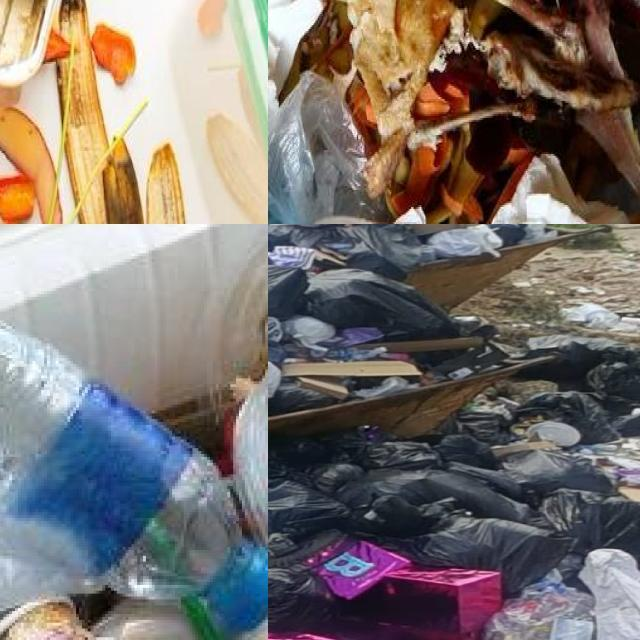Disposable: (0, 224, 268, 413)
Garbage: (268, 224, 640, 640), (0, 224, 268, 640), (268, 0, 640, 224)
Plastic_Bag: (403, 516, 574, 596), (335, 567, 503, 640), (309, 269, 458, 339), (337, 469, 529, 522), (445, 450, 615, 502), (521, 338, 640, 402), (539, 488, 640, 559), (484, 580, 594, 640), (268, 425, 393, 471), (516, 391, 621, 444), (579, 549, 640, 640), (268, 481, 351, 540), (343, 224, 434, 272), (268, 567, 335, 631), (356, 496, 437, 538), (587, 350, 640, 403), (427, 224, 503, 258), (434, 434, 500, 469), (268, 264, 309, 318), (268, 382, 337, 414), (363, 441, 439, 469), (282, 316, 337, 347), (311, 463, 364, 493), (268, 245, 319, 270), (324, 552, 374, 577), (608, 456, 640, 486), (268, 462, 303, 489), (485, 224, 526, 244), (268, 225, 293, 250), (268, 342, 288, 365)
Plastic_bottle: (0, 322, 268, 631)
contaminated_waste: (0, 322, 268, 631), (268, 0, 323, 127)
